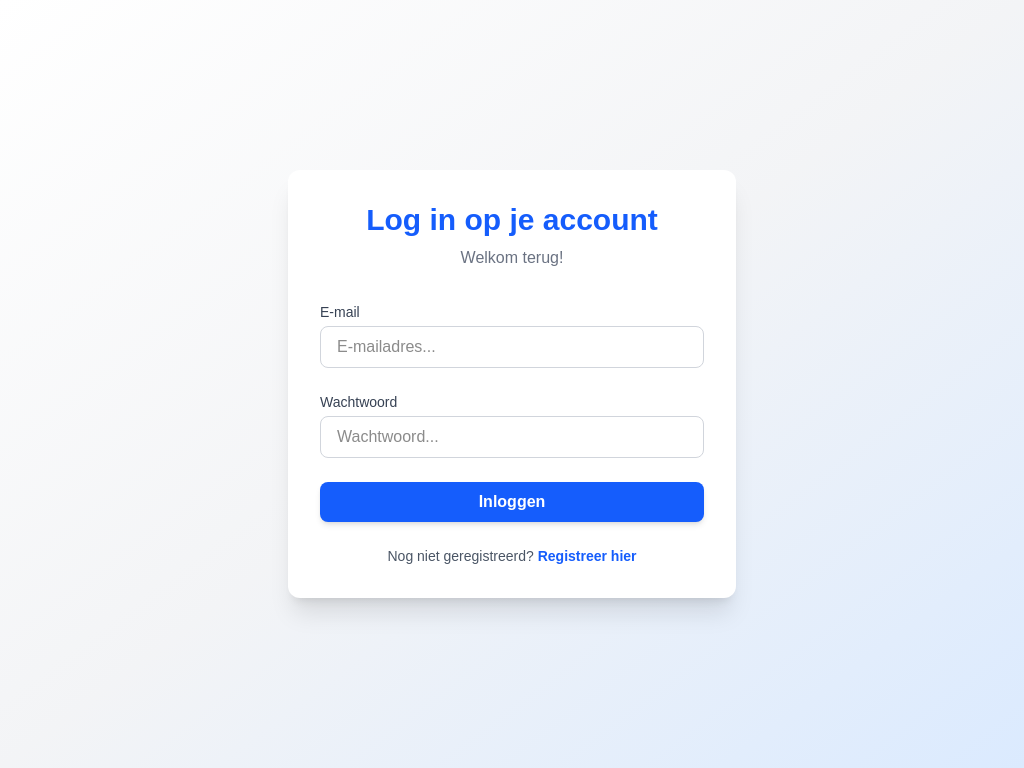
Test: LoginPage › shows error message on failed login
Type "test@example.com" into the field labelled "E-mail". click: (512, 347)
box: left=320, top=326, right=704, bottom=368
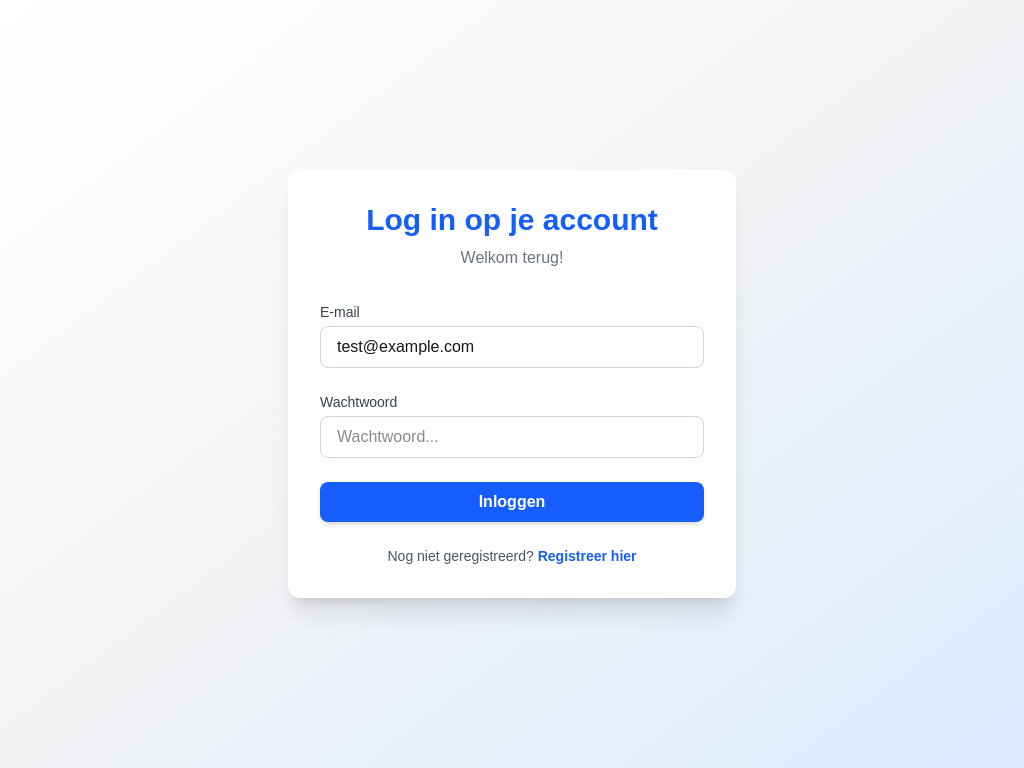
Type "wrongpass" into the password field labelled "Wachtwoord". click: (512, 437)
box: left=320, top=416, right=704, bottom=458
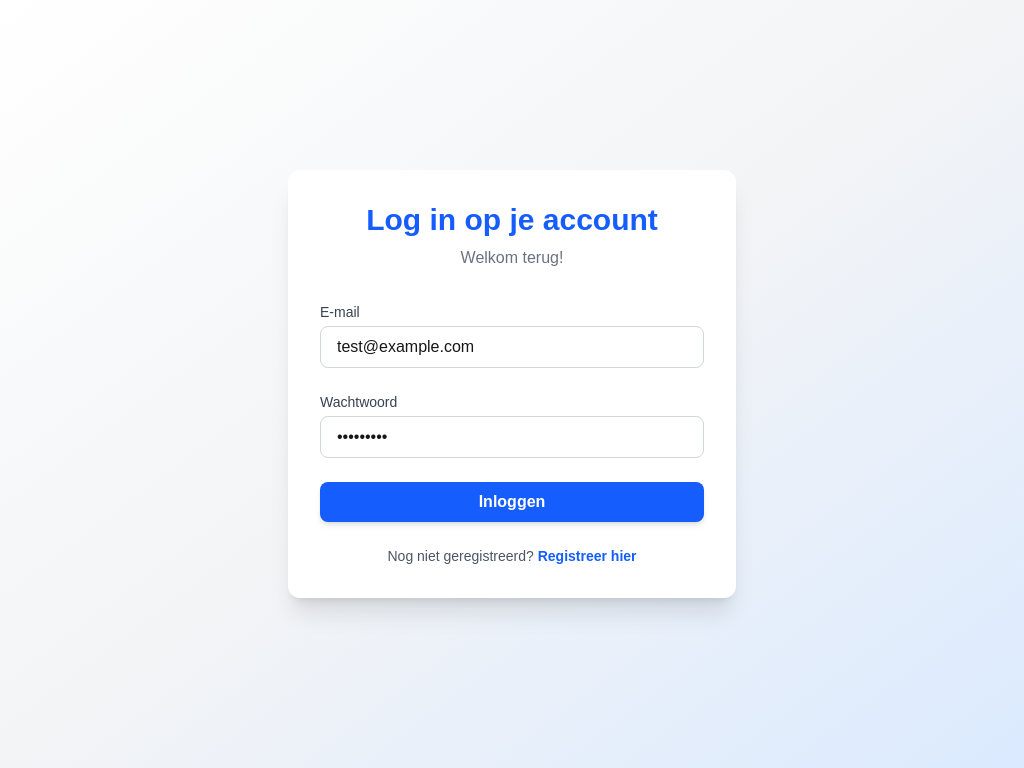
Submit the form from the button "Inloggen", box left=320, top=482, right=704, bottom=522
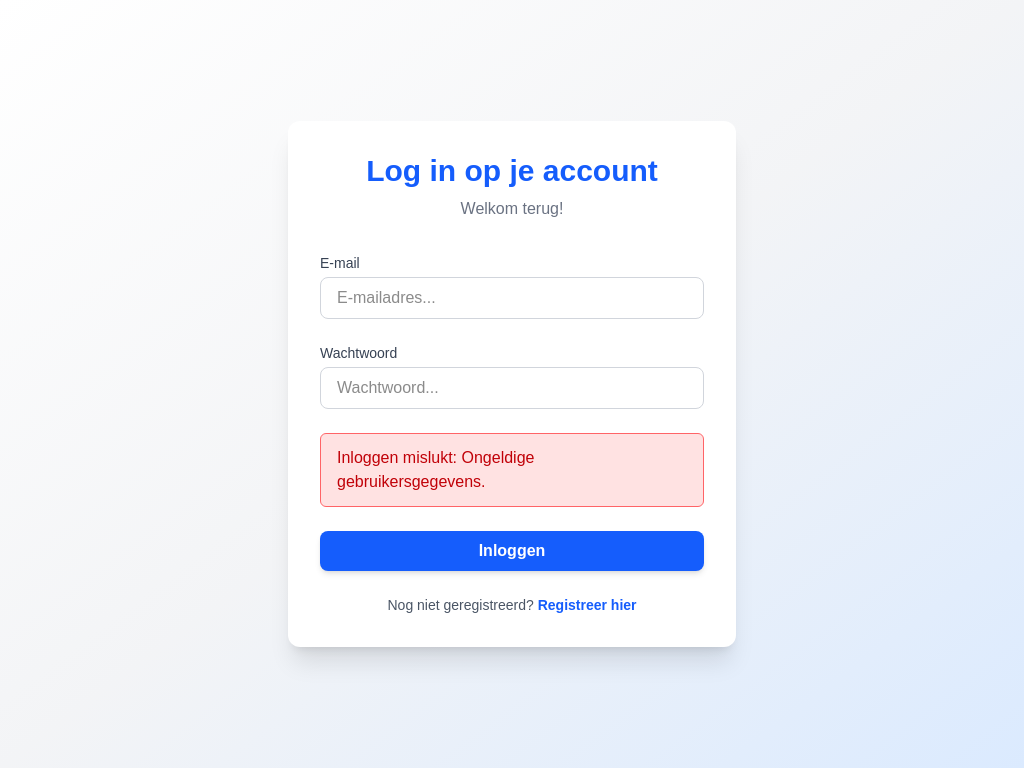
Now the text "Inloggen mislukt: Ongeldige gebruikersgegevens." is shown, box left=320, top=433, right=704, bottom=507
